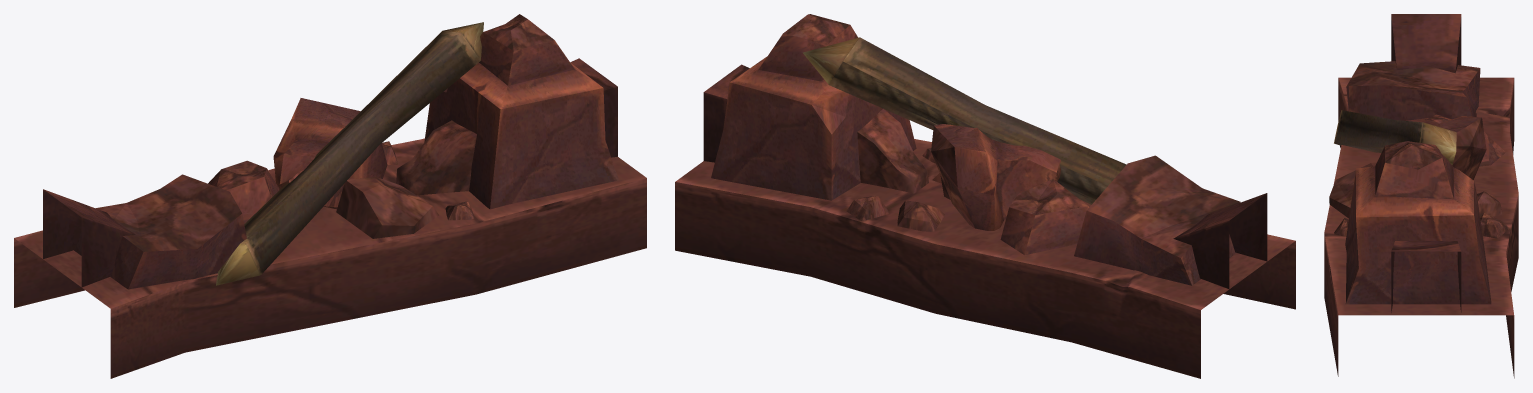
The model's file is lava_railing_straight_03.fbx.
The picture shows the model from 3 angles, left to right: view 1: azimuth 30°, elevation 25°; view 2: azimuth 150°, elevation 25°; view 3: azimuth 270°, elevation 25°; orthographic projection. The views are drawn at different scales.
Parts seen in each view (by area): view 1: lava_railing_straight_03-0; view 2: lava_railing_straight_03-0; view 3: lava_railing_straight_03-0.
Boxes of the visible parts, <box> form: lava_railing_straight_03-0: <box>14,14,646,378</box>; lava_railing_straight_03-0: <box>675,14,1295,378</box>; lava_railing_straight_03-0: <box>1324,14,1518,378</box>.
Bounding box in the file's own units: 4 × 1.56 × 1.38.
